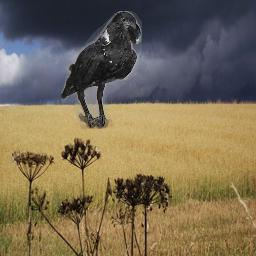Crow: (61, 11, 142, 129)
